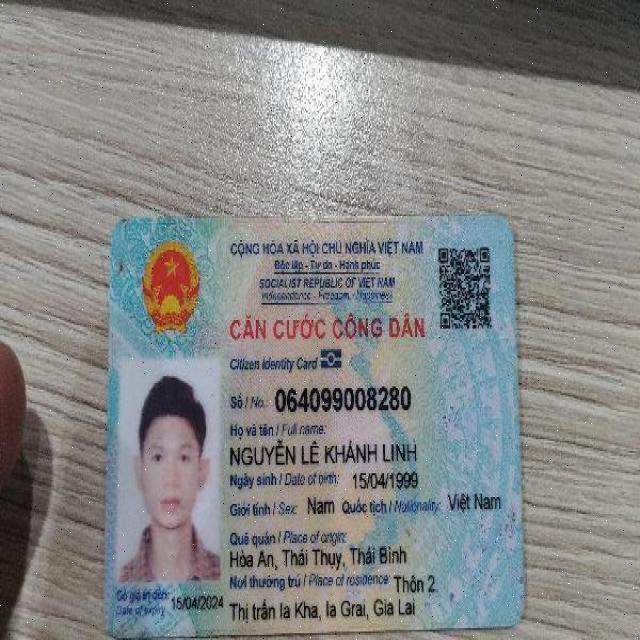current_place: (228, 597, 418, 624), (394, 569, 436, 597)
dob: (351, 467, 423, 493)
expire_date: (170, 586, 225, 617)
gender: (305, 491, 338, 517)
id: (275, 379, 412, 414)
name: (226, 436, 420, 472)
nationality: (448, 477, 502, 517)
origin_place: (228, 544, 407, 571)
